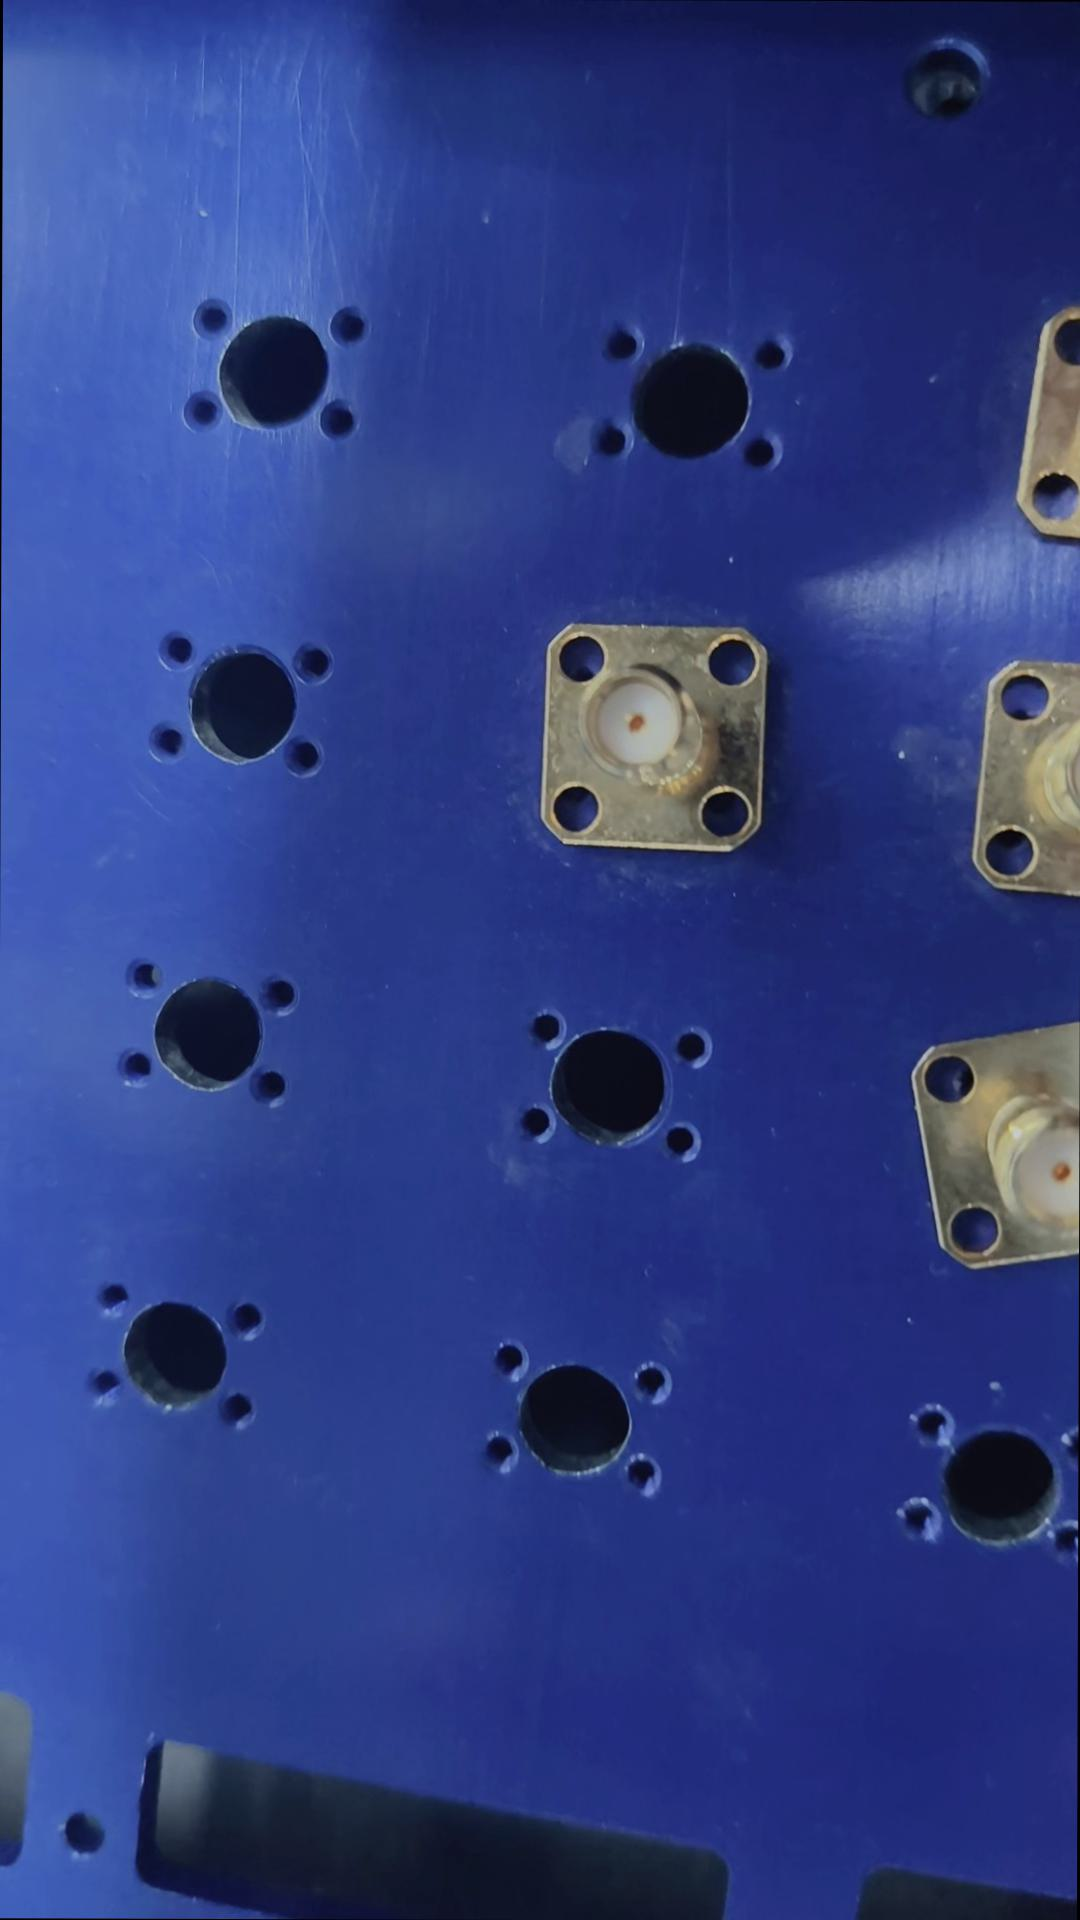SMA: (533, 625, 774, 855)
